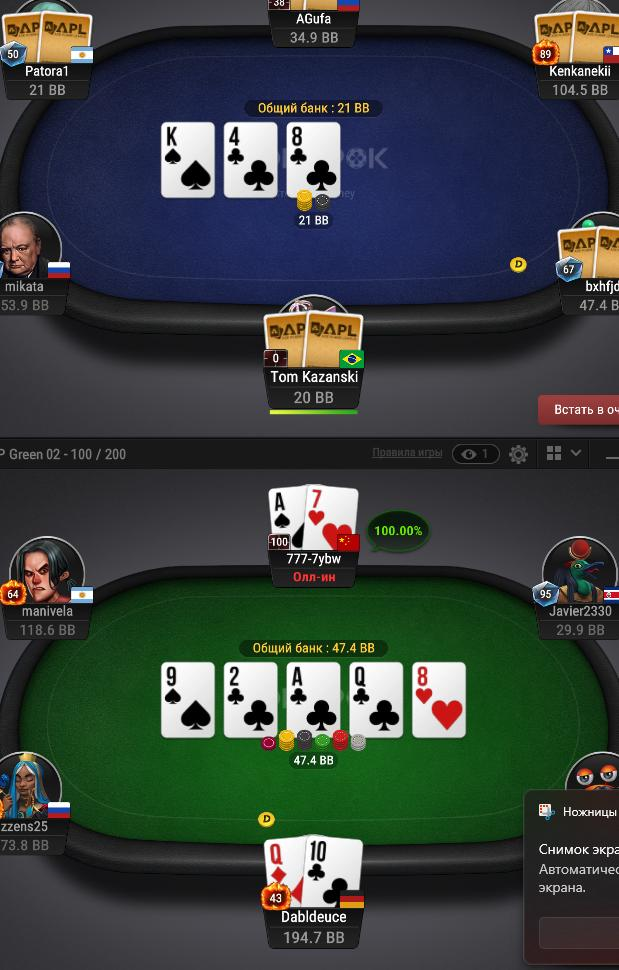10c: (306, 835, 364, 910)
2c: (225, 662, 278, 738)
4c: (225, 123, 277, 198)
7h: (302, 486, 360, 550)
8c: (287, 124, 339, 196)
8h: (413, 662, 467, 737)
9s: (162, 662, 215, 739)
Ac: (287, 662, 343, 735)
As: (269, 485, 306, 551)
Ks: (162, 122, 214, 197)
Qc: (350, 662, 404, 737)
Qd: (264, 839, 308, 910)
